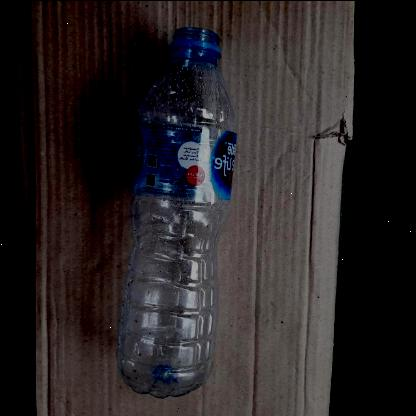Plastic Bottle: (115, 25, 236, 396)
